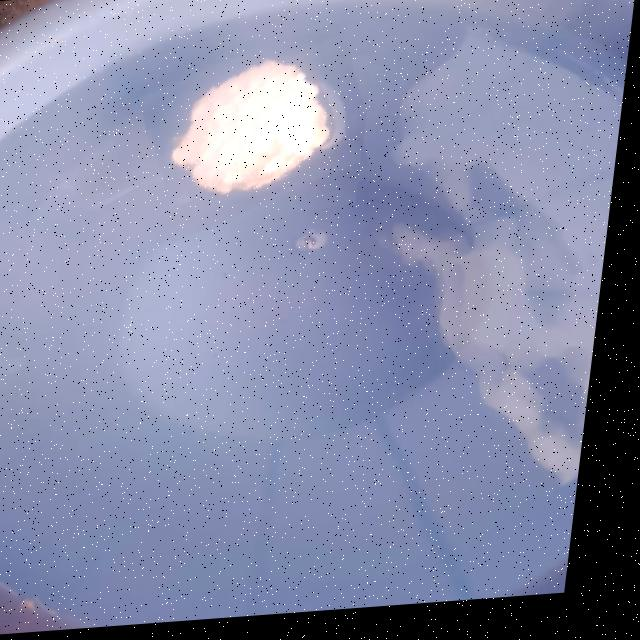litter: (139, 36, 378, 234)
